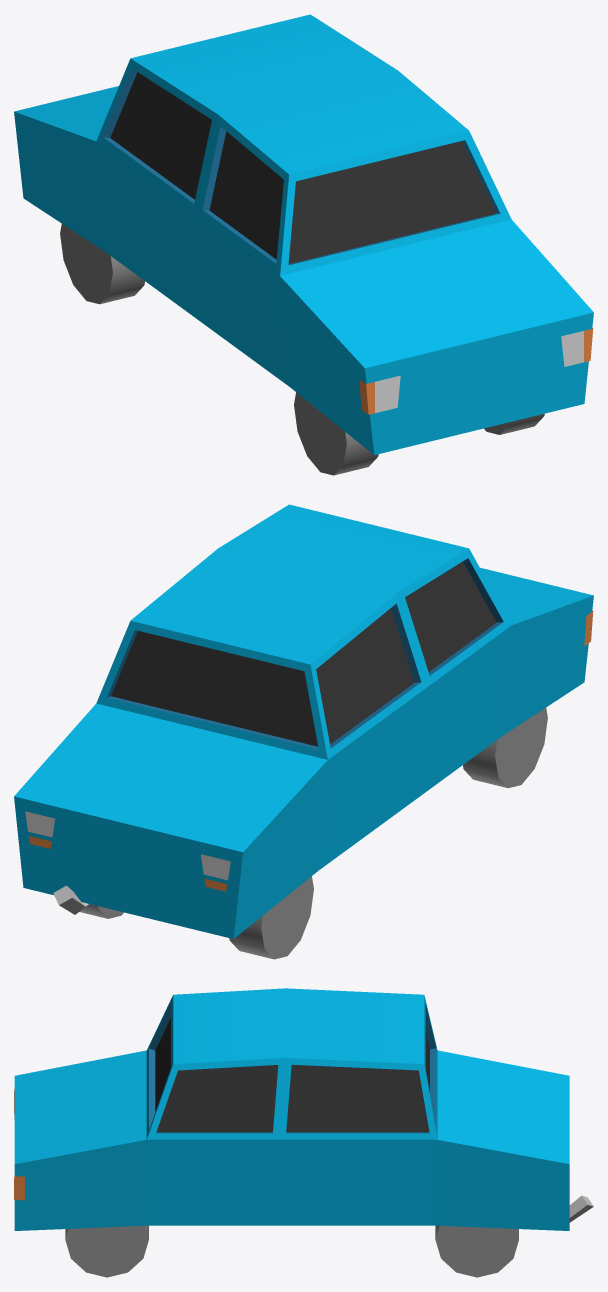
File: car_03.fbx
3 renders of one model, top to bottom at view 1: azimuth 30°, elevation 25°; view 2: azimuth 150°, elevation 25°; view 3: azimuth 270°, elevation 25°, orthographic. The views are drawn at different scales.
Visible parts, largest first — view 1: car_03; view 2: car_03; view 3: car_03.
Boxes of the visible parts, left/top/right/bottom form: car_03: left=14, top=14, right=593, bottom=475; car_03: left=14, top=504, right=593, bottom=959; car_03: left=14, top=988, right=593, bottom=1277.
Bounding box in the file's own units: 1.6 × 1.8 × 4.39.
